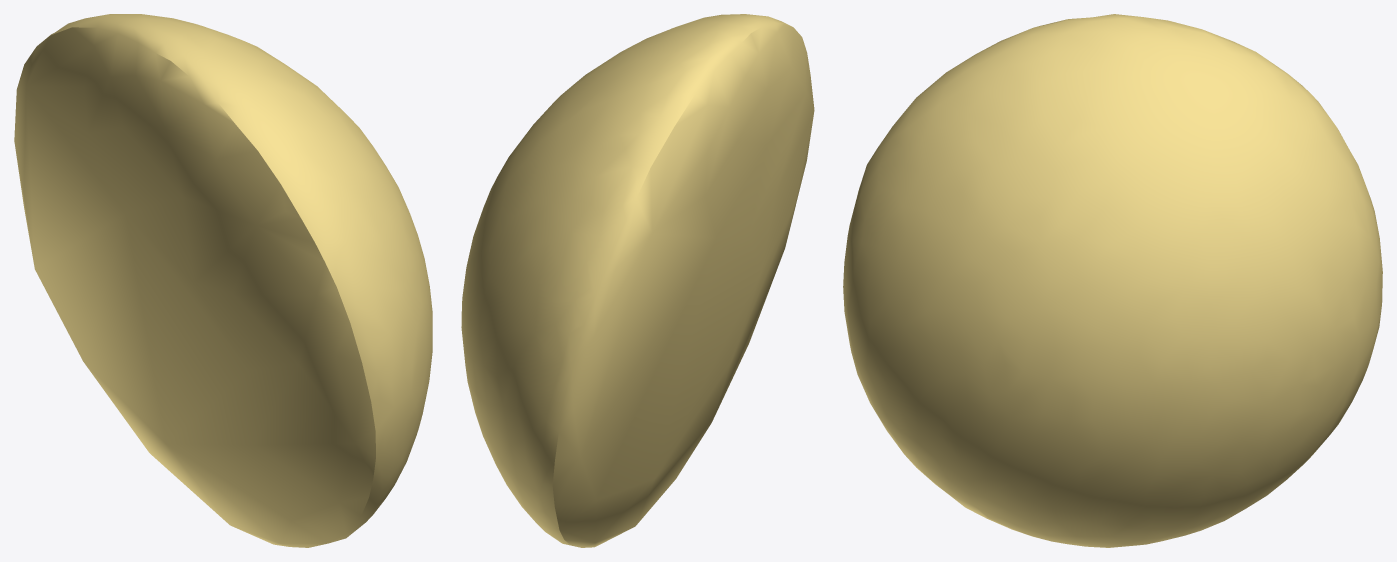
The model's file is fma73344_mm2969.glb.
3 views of the same model, side by side, from view 1: azimuth 30°, elevation 25°; view 2: azimuth 150°, elevation 25°; view 3: azimuth 270°, elevation 25° (orthographic). The views are drawn at different scales.
Visible parts, largest first — view 1: FMA73344_MM2969; view 2: FMA73344_MM2969; view 3: FMA73344_MM2969.
Boxes of the visible parts, <box> form: FMA73344_MM2969: <box>14,14,432,547</box>; FMA73344_MM2969: <box>461,14,814,547</box>; FMA73344_MM2969: <box>843,14,1382,547</box>.
Size of the model in its own units: 0.0015 by 0.00288 by 0.00291.
